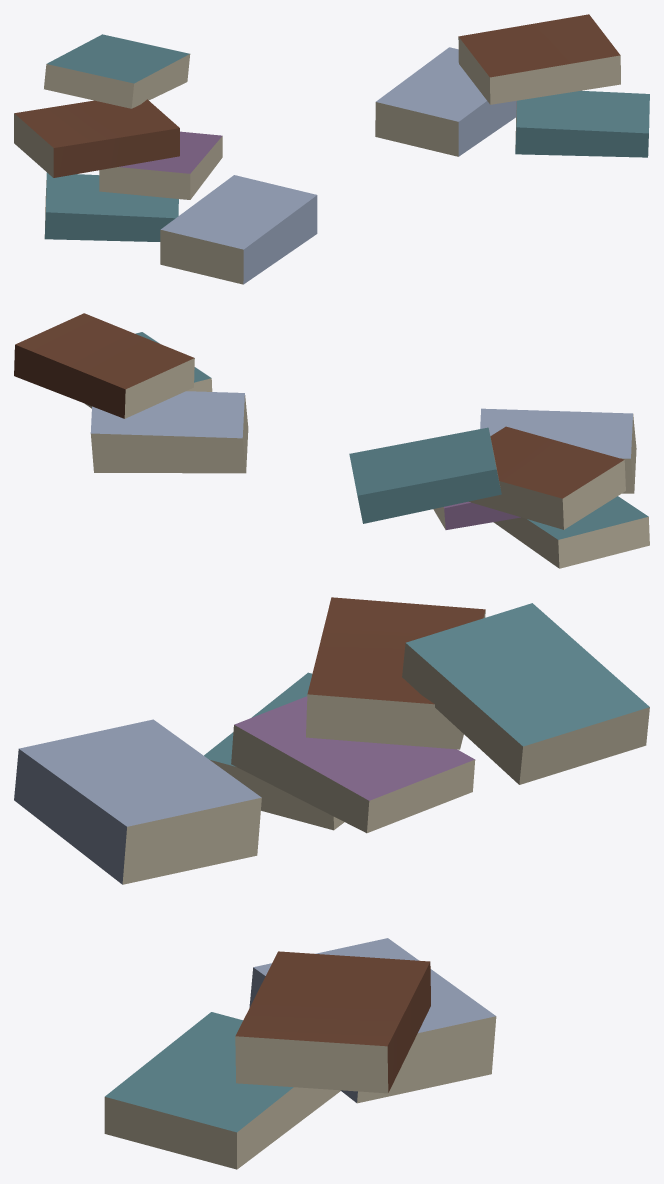
Rendered from Book_00.FBX.
3 renders of one model, top to bottom at view 1: azimuth 30°, elevation 25°; view 2: azimuth 150°, elevation 25°; view 3: azimuth 270°, elevation 25°, orthographic. The views are drawn at different scales.
Parts seen in each view (by area): view 1: Book_00; view 2: Book_00; view 3: Book_00.
Boxes of the visible parts, x1=… form: Book_00: x1=14, y1=14, x2=649, y2=284; Book_00: x1=14, y1=313, x2=649, y2=568; Book_00: x1=14, y1=597, x2=649, y2=1169.
Size of the model in its own units: 50.77 by 9.22 by 30.36.
